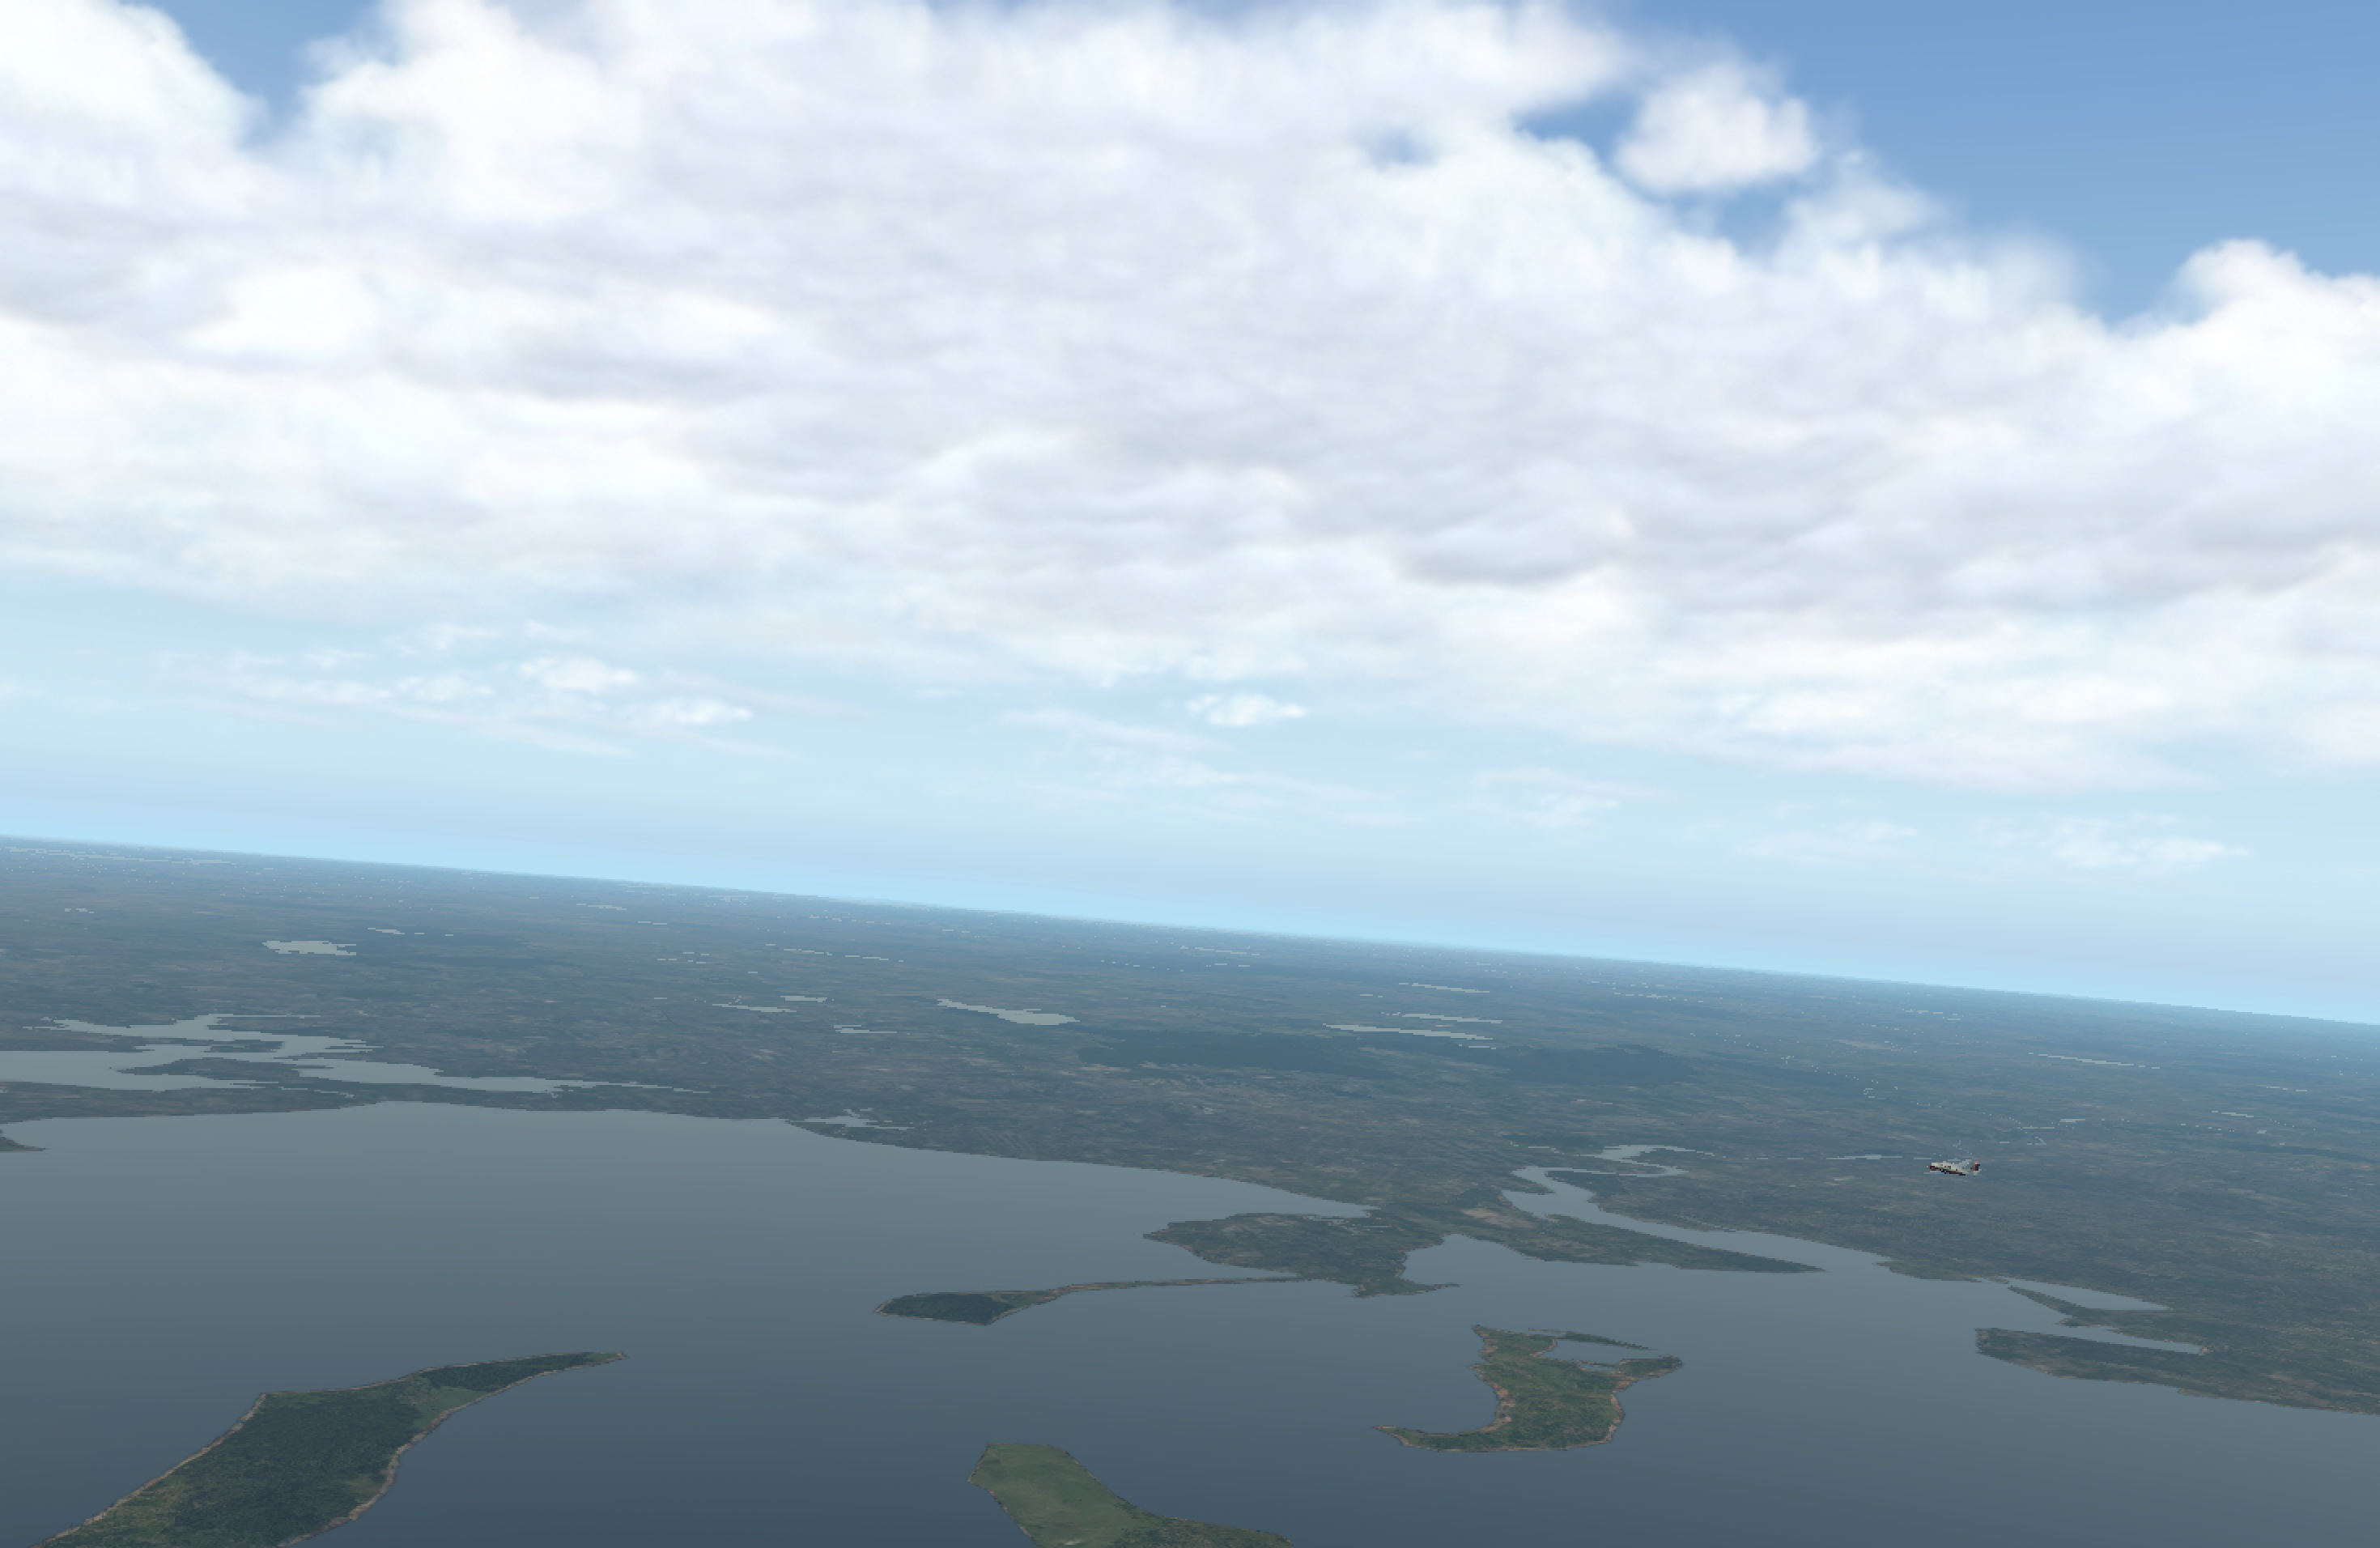aircraft: (1908, 1156, 1983, 1184)
